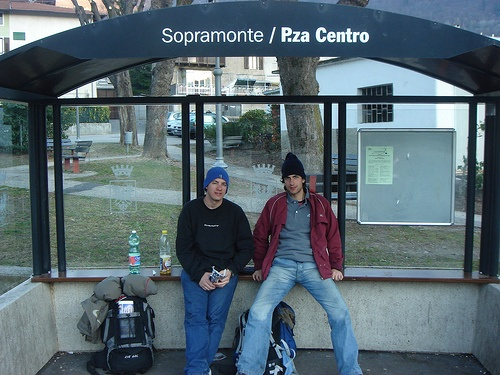head: (200, 167, 231, 205), (281, 161, 308, 194)
person: (231, 154, 366, 374), (175, 163, 251, 375)
